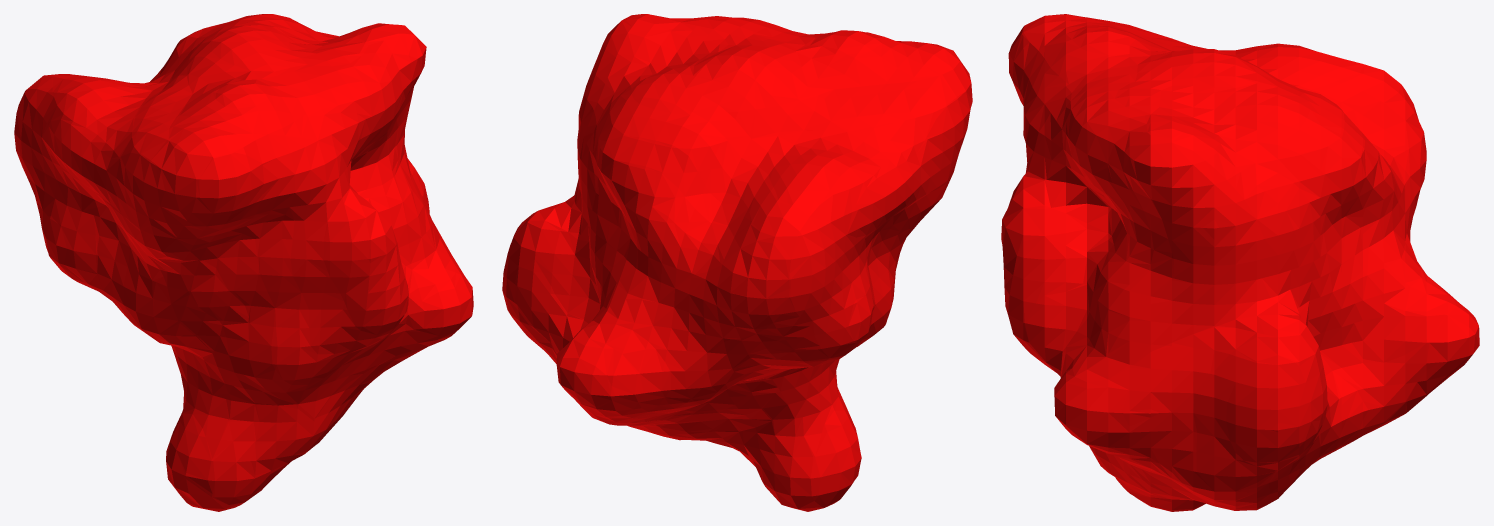
Rendered from hflD_coarse.dae.
3 views of the same model, side by side, from view 1: azimuth 30°, elevation 25°; view 2: azimuth 150°, elevation 25°; view 3: azimuth 270°, elevation 25° (orthographic). The views are drawn at different scales.
Parts seen in each view (by area): view 1: hflD; view 2: hflD; view 3: hflD.
Part boxes in pixels (x1,y1,x2,y2): hflD: (14,14,473,511); hflD: (502,14,972,511); hflD: (1001,14,1479,511).
Size of the model in its own units: 45.06 by 52.27 by 47.6.
